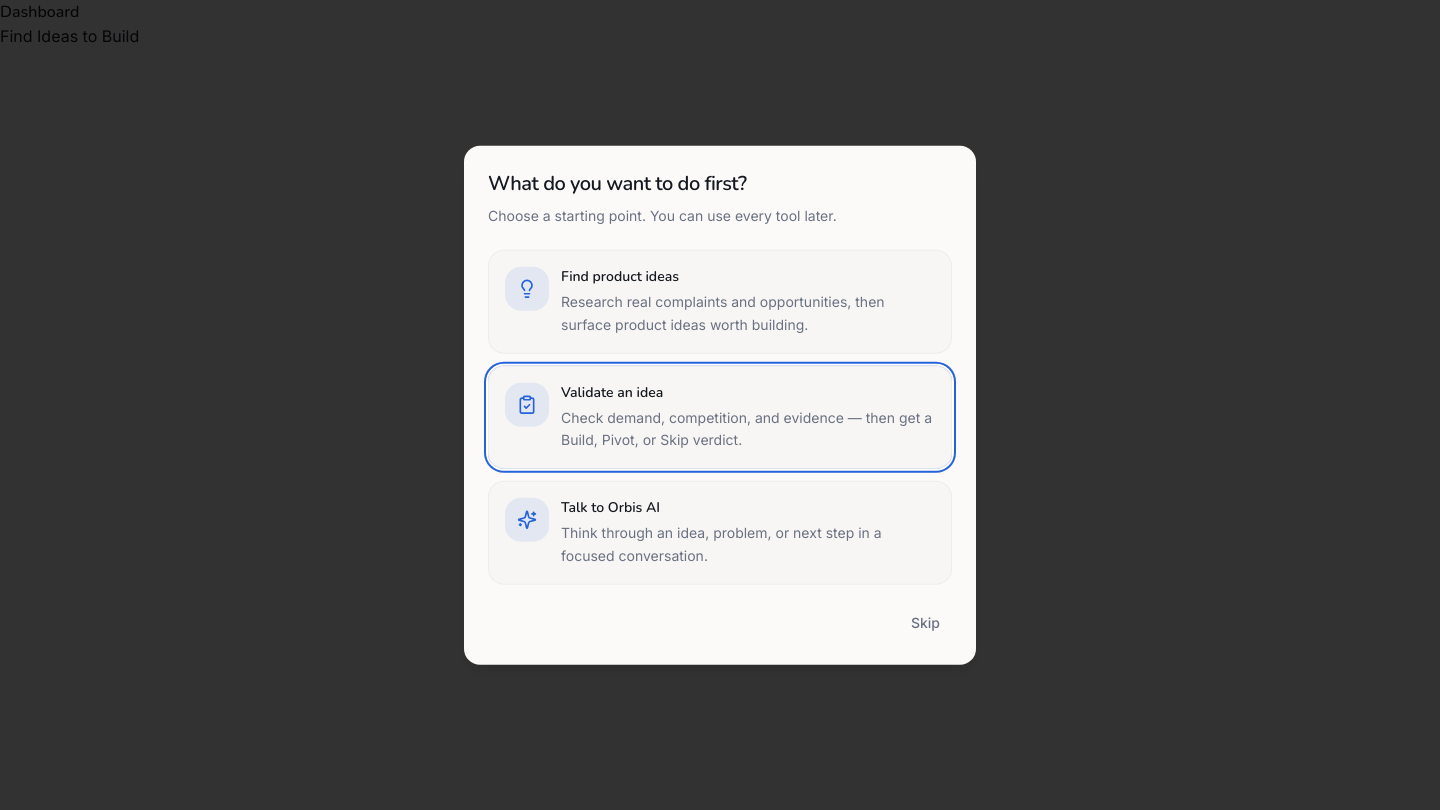
OnboardingTour goal routing › activates goal cards with keyboard Enter
Press Enter in the button "Validate an idea", box [488,365,952,469]
Click the button "Validate an idea" at (720, 417), box [488,365,952,469]
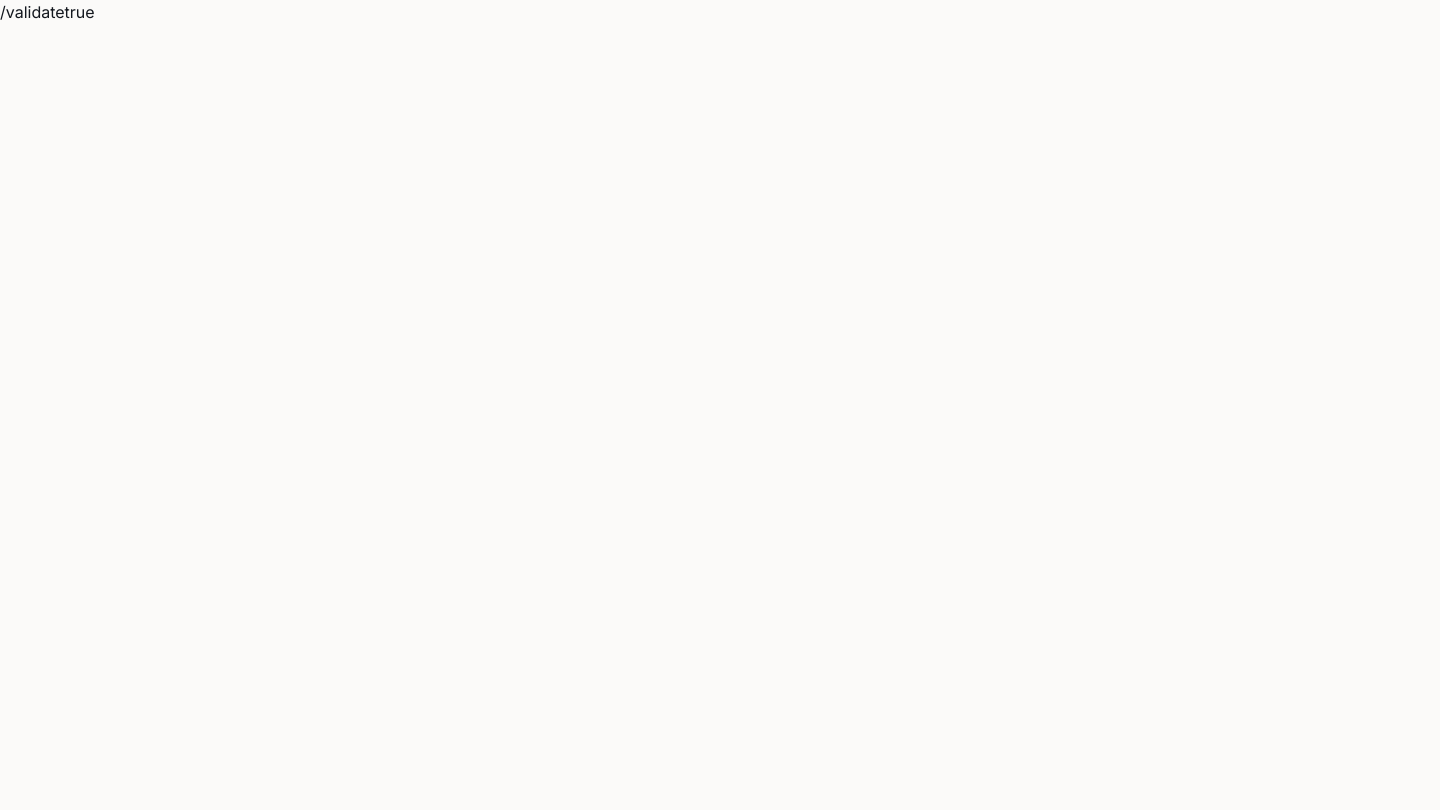
Now the text with test id "pathname" reads "/validate", box [0,2,65,22]
